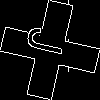J: (25, 25, 76, 60)
